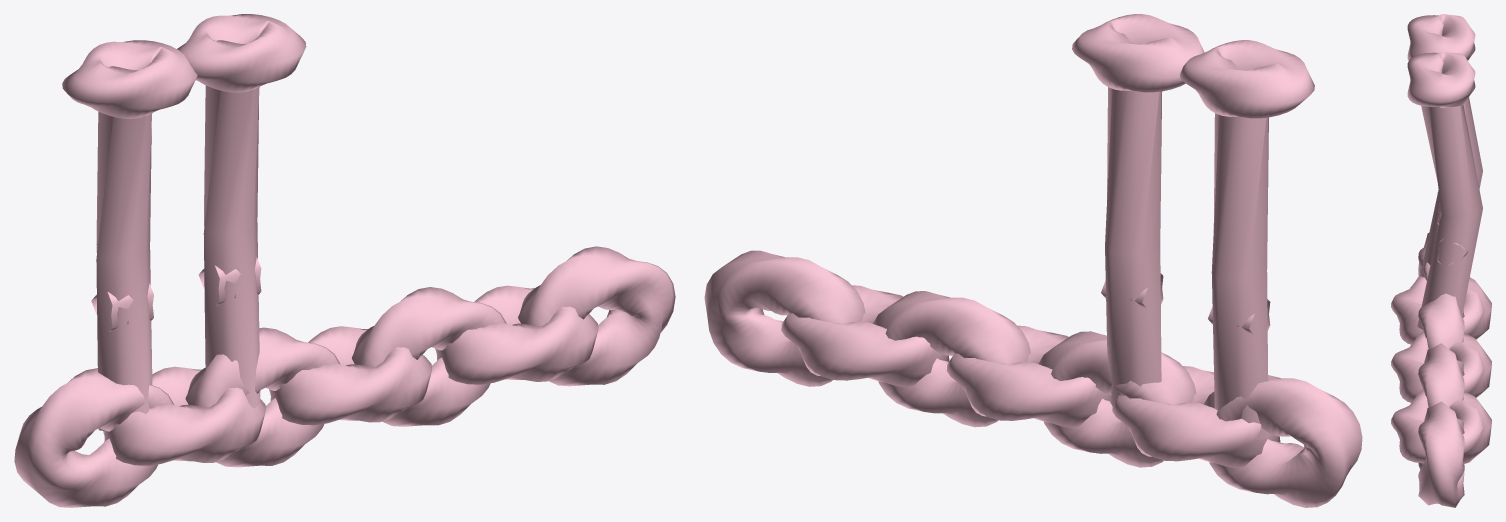
The model's file is row_dc.glb.
The picture shows the model from 3 angles, left to right: view 1: azimuth 30°, elevation 25°; view 2: azimuth 150°, elevation 25°; view 3: azimuth 270°, elevation 25°; orthographic projection. The views are drawn at different scales.
Visible parts, largest first — view 1: Row; view 2: Row; view 3: Row.
Boxes of the visible parts, x1=… form: Row: x1=14, y1=14, x2=675, y2=507; Row: x1=704, y1=14, x2=1362, y2=507; Row: x1=1391, y1=14, x2=1491, y2=507.
Size of the model in its own units: 3.76 by 2.43 by 0.7025.
